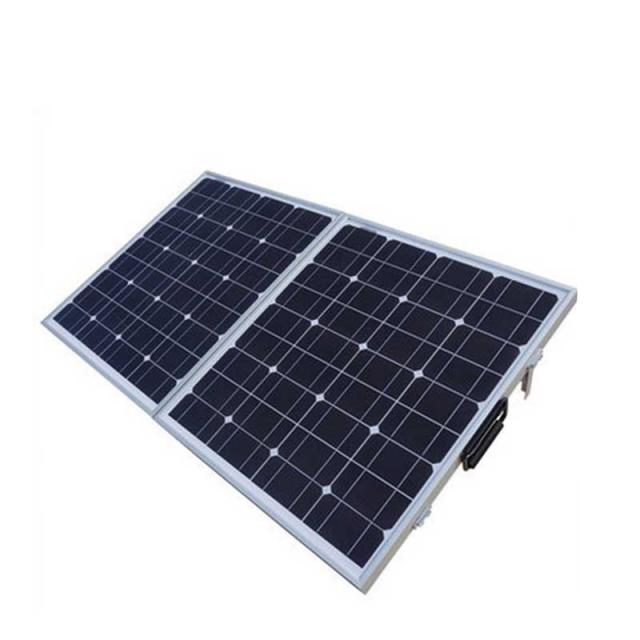clean-solar-panel: (216, 312, 239, 334)
